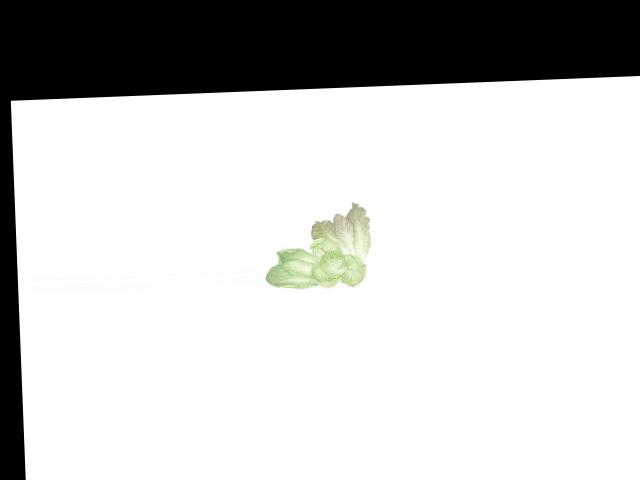lettuce: (262, 196, 374, 296)
